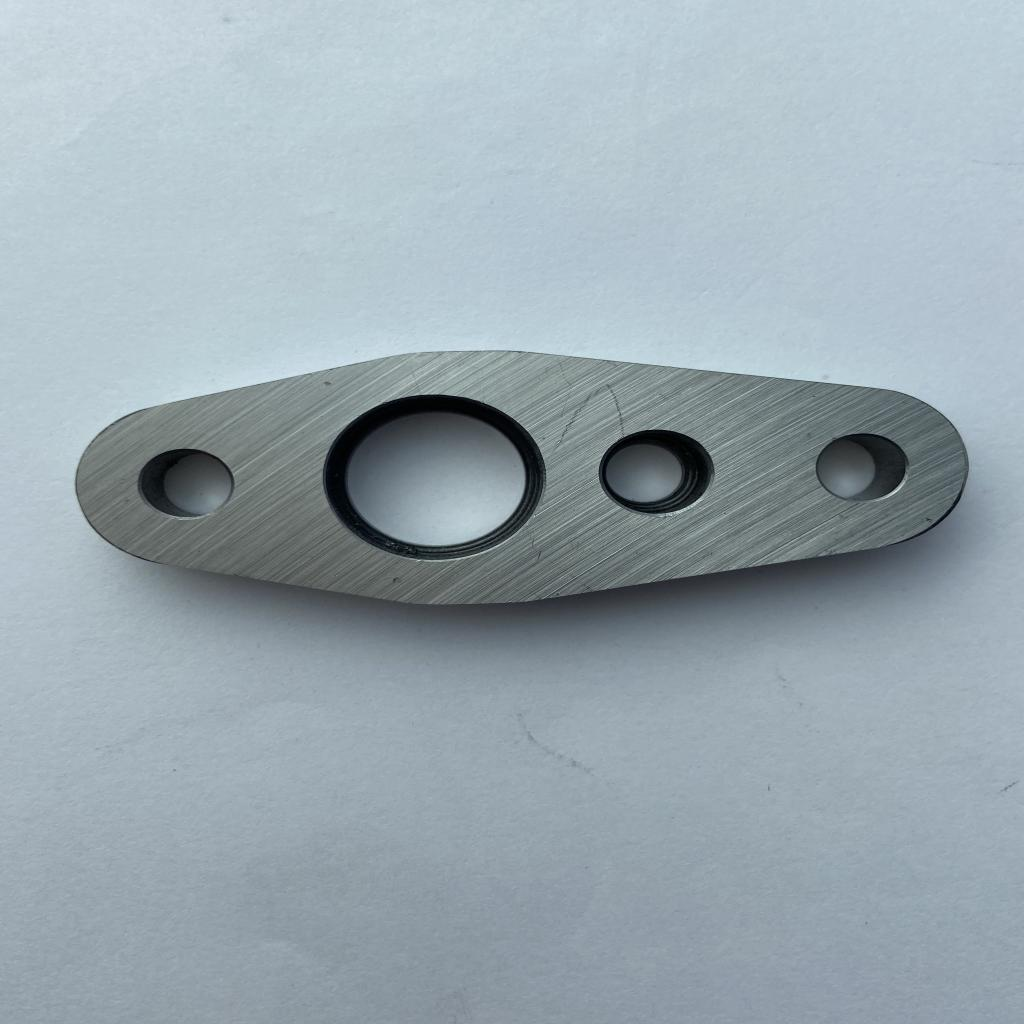lines: (558, 384, 623, 444), (526, 534, 547, 562), (382, 572, 408, 587), (320, 378, 334, 388)
